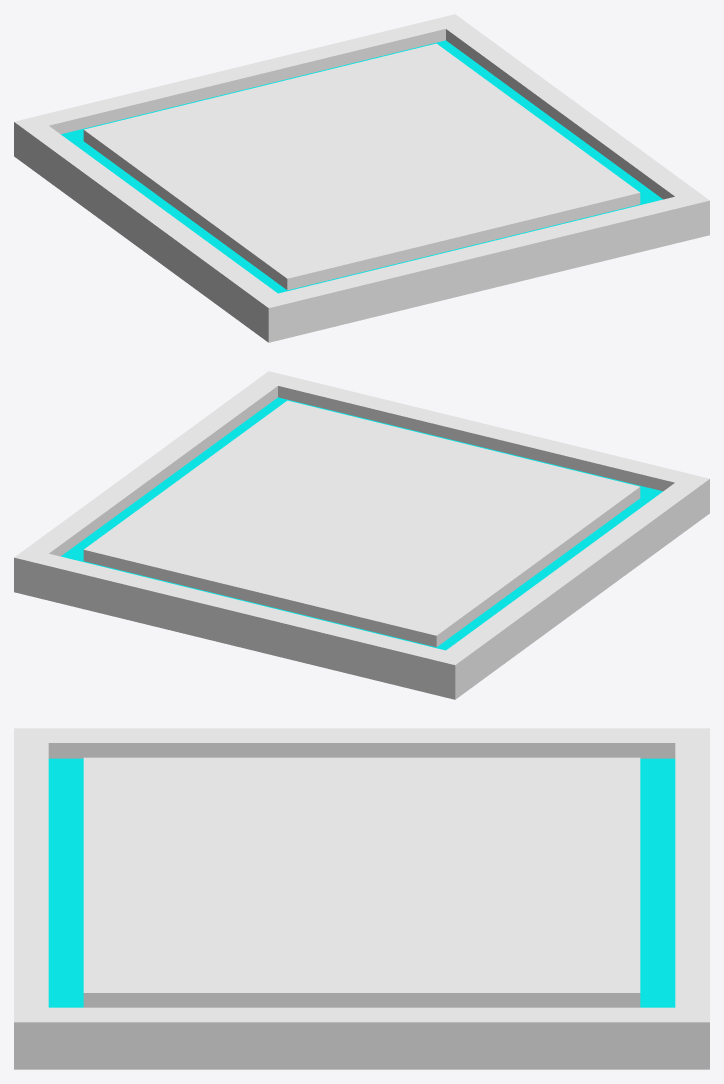
File: button.obj
The picture shows the model from 3 angles, top to bottom: view 1: azimuth 30°, elevation 25°; view 2: azimuth 150°, elevation 25°; view 3: azimuth 270°, elevation 25°; orthographic projection. The views are drawn at different scales.
Size of the model in its own units: 4 by 0.3 by 4.
1 material, 1 textured.
